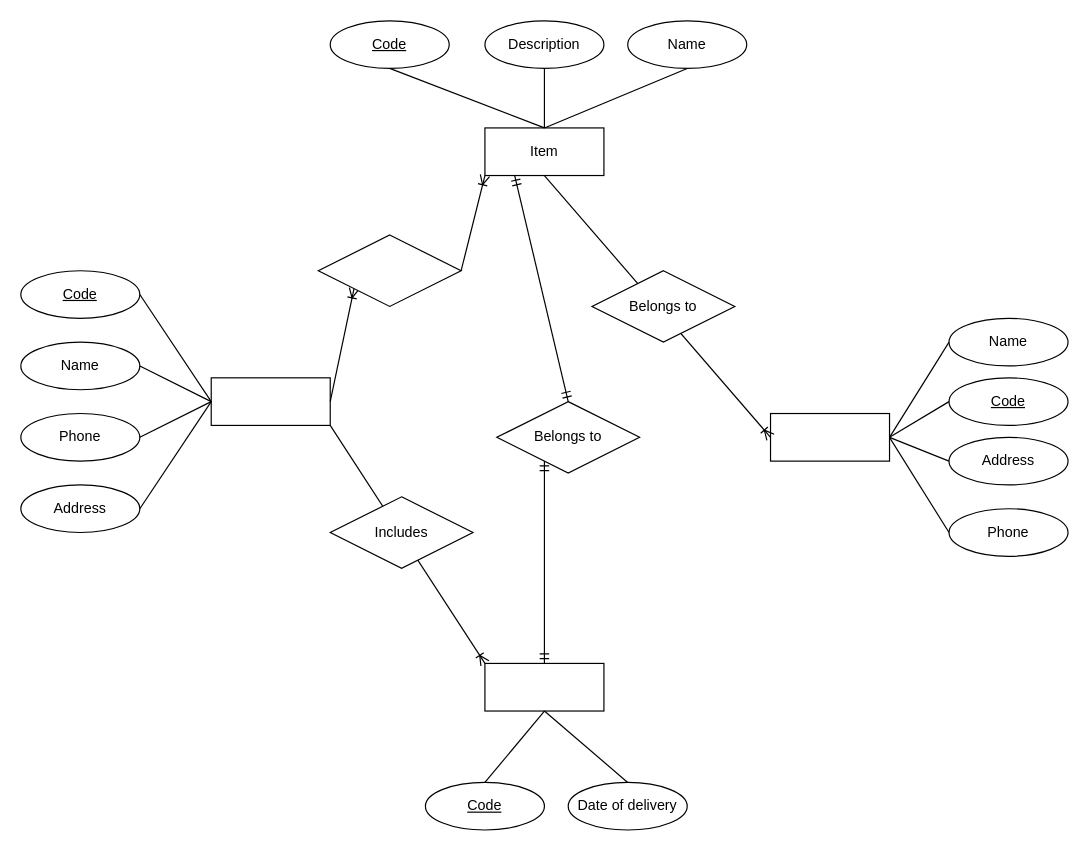
Some shapes in this 1089 by 851 pixel diagram are drawn without their labels. The box of each missing label's shape, as (x1, y1, x2, y2) in pixels:
Bill: (484, 662, 604, 711)
Has: (317, 234, 461, 306)
Store: (210, 377, 330, 425)
Suppliers: (769, 412, 890, 461)
